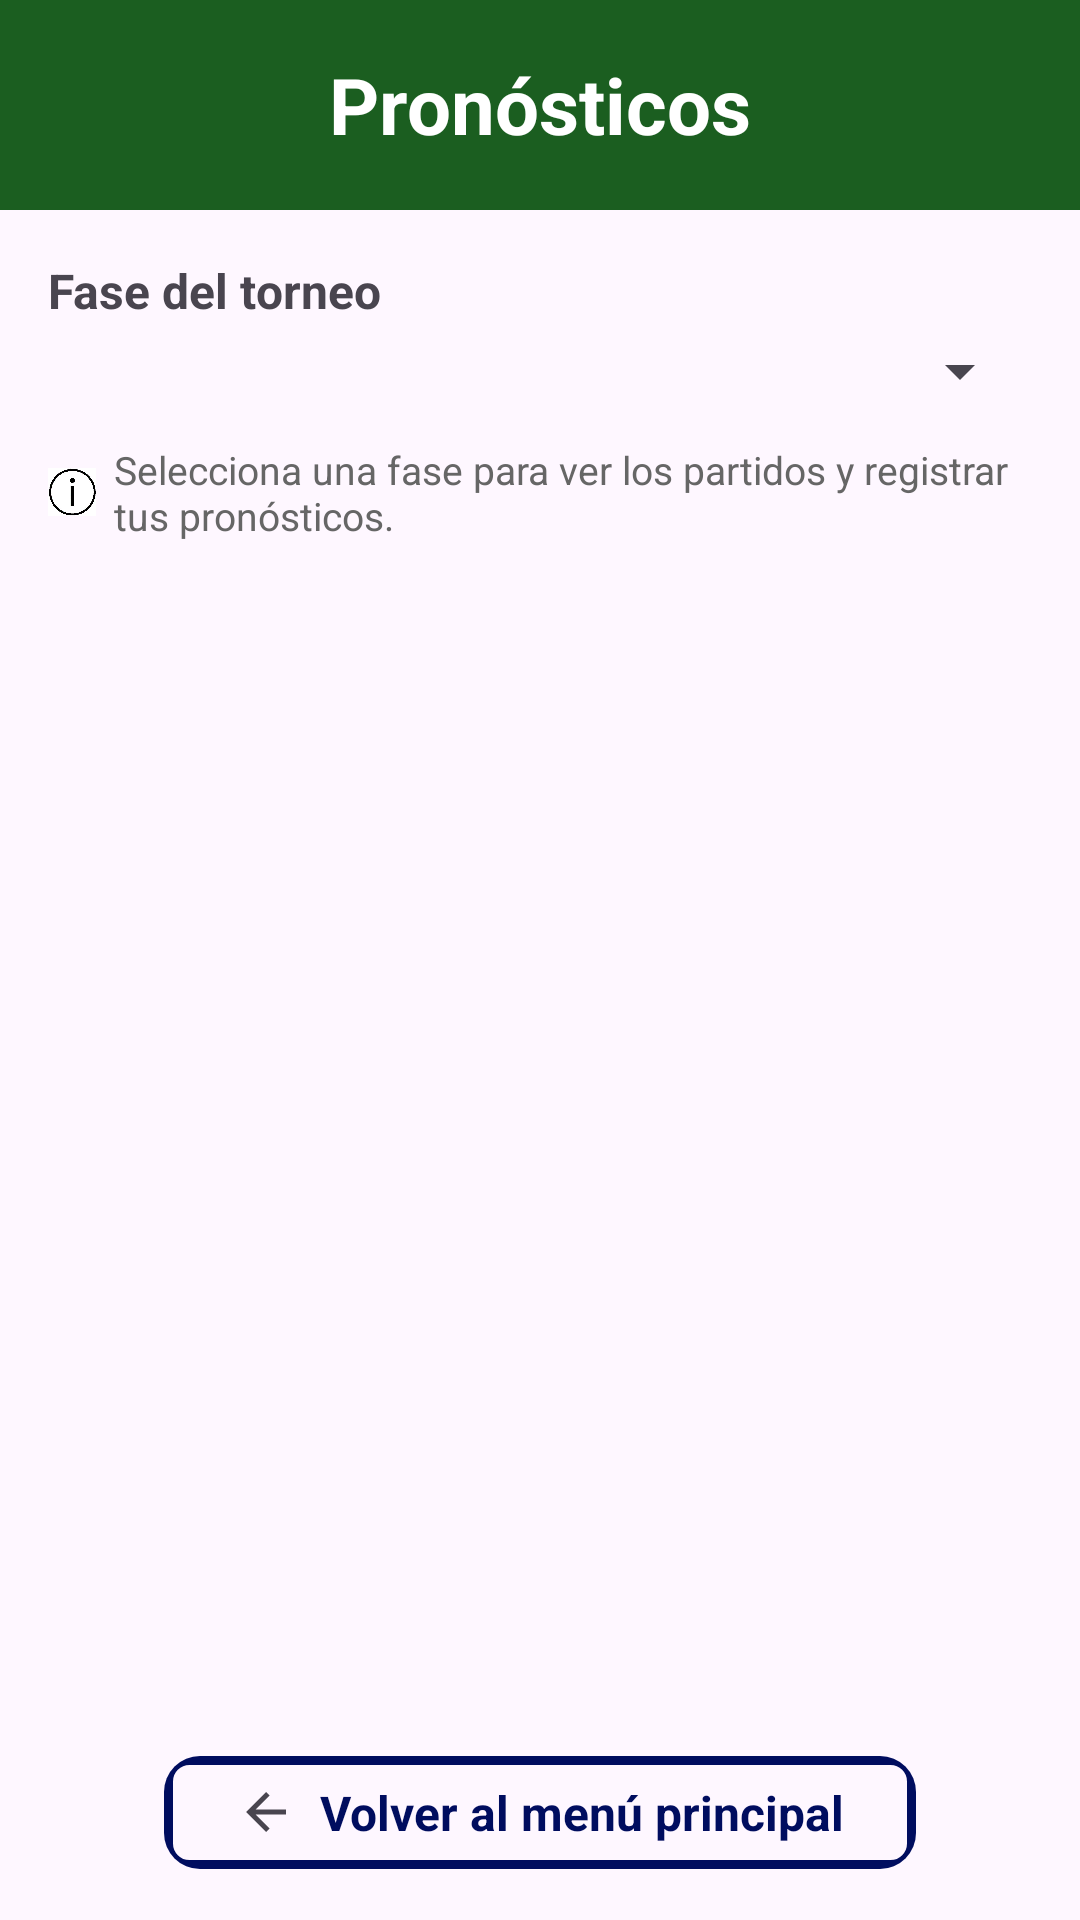

Point at icon controls on the screen. Image size 1080x1920, points as (x=x, y=y).
info: (x=72, y=492)
